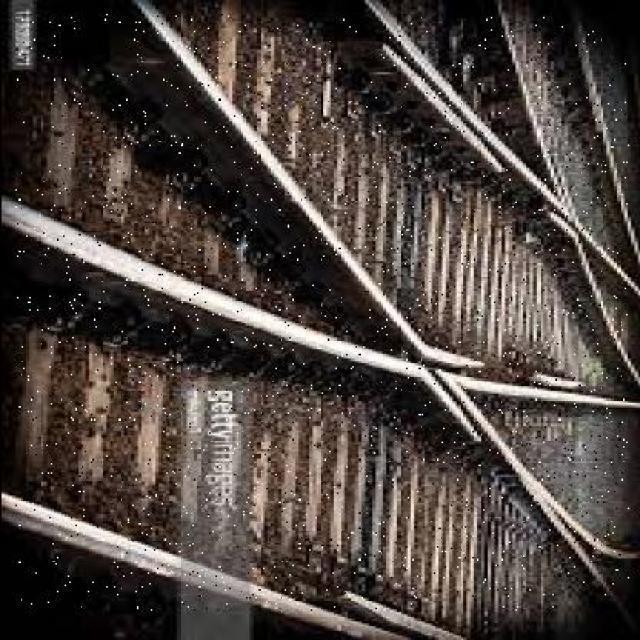rail: (15, 15, 629, 614)
